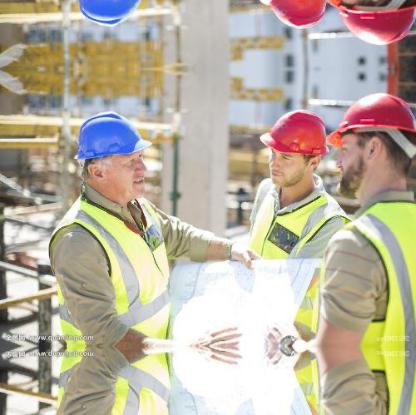Safety Helmet: (326, 87, 416, 204), (66, 107, 159, 207), (258, 105, 326, 197)
